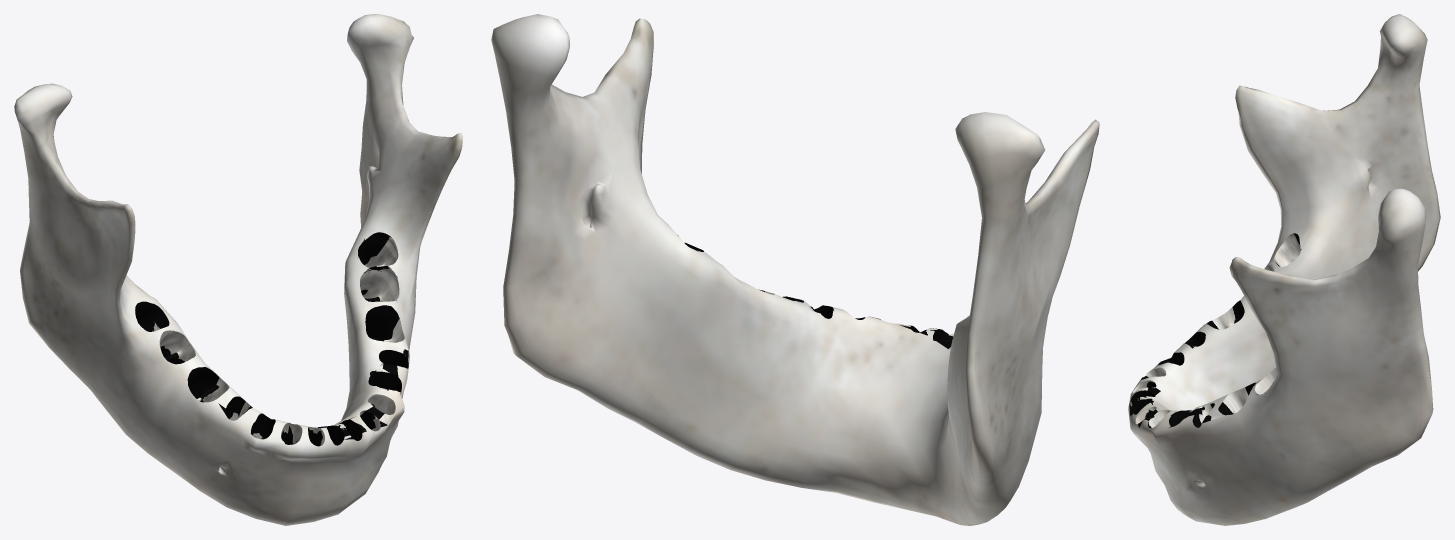
The model's file is 9TESTmandible.fbx.
3 renders of one model, left to right at view 1: azimuth 30°, elevation 25°; view 2: azimuth 150°, elevation 25°; view 3: azimuth 270°, elevation 25°, orthographic. The views are drawn at different scales.
Visible parts, largest first — view 1: mandible_Group1; view 2: mandible_Group1; view 3: mandible_Group1.
Part boxes in pixels (x1,y1,x2,y2): mandible_Group1: [14, 14, 462, 525]; mandible_Group1: [491, 14, 1099, 525]; mandible_Group1: [1128, 14, 1440, 525].
Bounding box in the file's own units: 50.31 × 48.13 × 33.74.
